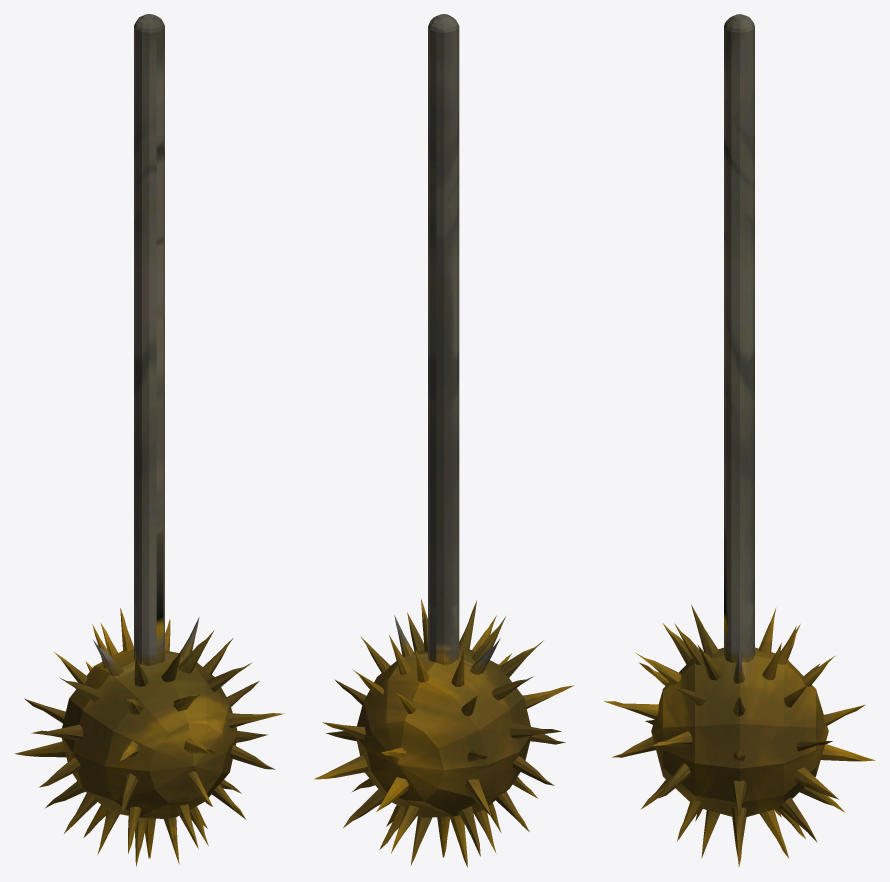
File: Mace.glb
3 views of the same model, side by side, from view 1: azimuth 30°, elevation 25°; view 2: azimuth 150°, elevation 25°; view 3: azimuth 270°, elevation 25° (orthographic).
Parts seen in each view (by area): view 1: Mace; view 2: Mace; view 3: Mace.
Boxes of the visible parts, <box> form: Mace: <box>14,14,284,866</box>; Mace: <box>314,14,574,867</box>; Mace: <box>604,14,875,866</box>.
Size of the model in its own units: 140 by 476 by 140.
Materials: 1 (1 with a texture image).
